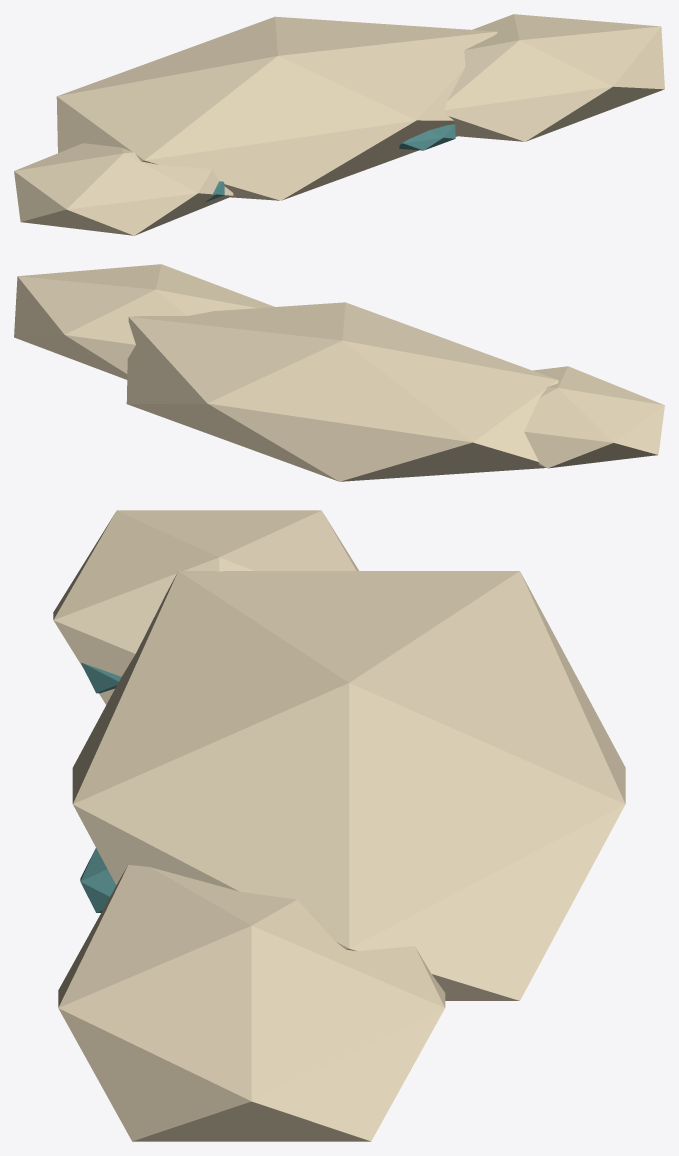
File: hsc3_wind_dune.glb
The picture shows the model from 3 angles, top to bottom: view 1: azimuth 30°, elevation 25°; view 2: azimuth 150°, elevation 25°; view 3: azimuth 270°, elevation 25°; orthographic projection. The views are drawn at different scales.
Parts seen in each view (by area): view 1: hsc3_wind_dune__hsc3-cream-enamel, hsc3_wind_dune__hsc3-deep-teal; view 2: hsc3_wind_dune__hsc3-cream-enamel; view 3: hsc3_wind_dune__hsc3-cream-enamel, hsc3_wind_dune__hsc3-deep-teal.
Part boxes in pixels (x1,y1,x2,y2): hsc3_wind_dune__hsc3-cream-enamel: [14, 14, 664, 235]; hsc3_wind_dune__hsc3-deep-teal: [205, 124, 455, 202]; hsc3_wind_dune__hsc3-cream-enamel: [14, 264, 664, 481]; hsc3_wind_dune__hsc3-cream-enamel: [53, 510, 625, 1141]; hsc3_wind_dune__hsc3-deep-teal: [80, 662, 121, 912].
Size of the model in its own units: 89.99 by 14 by 35.22.
